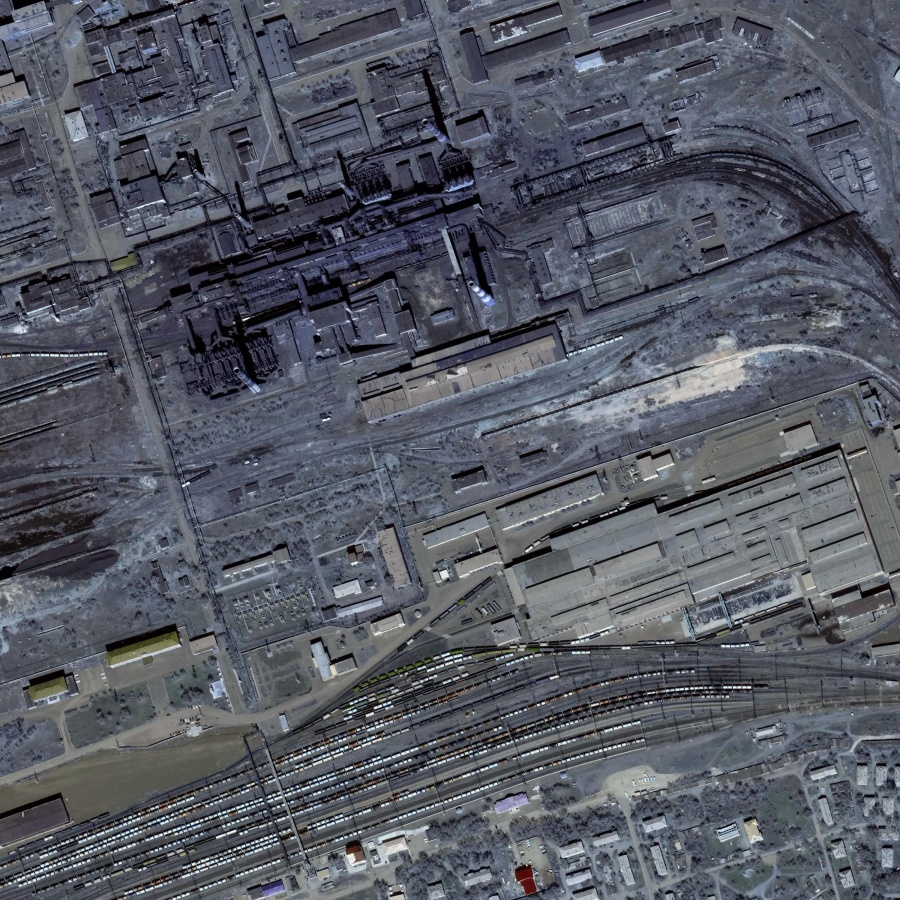PowerPlant: (163, 106, 515, 400)
